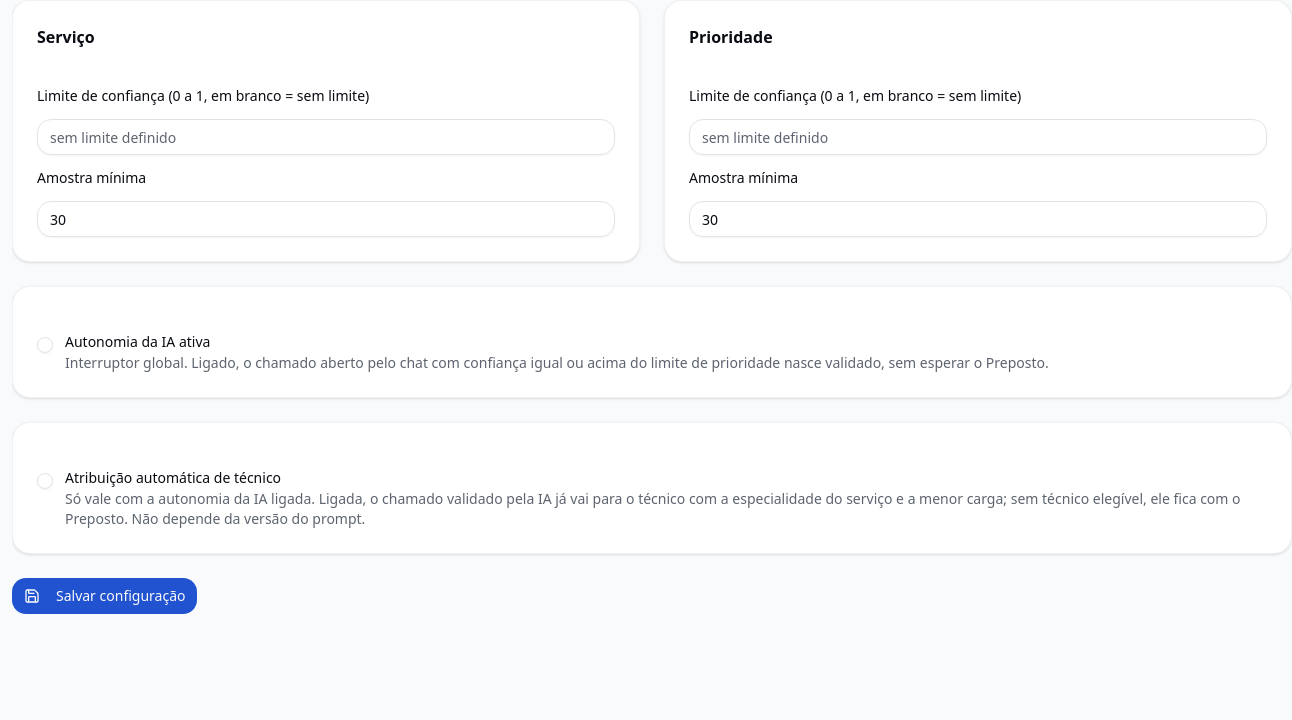
Test: IaConfiancaForm · validação › recusa amostra mínima 0, sem gravar
Replace the text in the 1st number field labelled "Amostra mínima" with "0": (326, 219) [37,201,615,237]
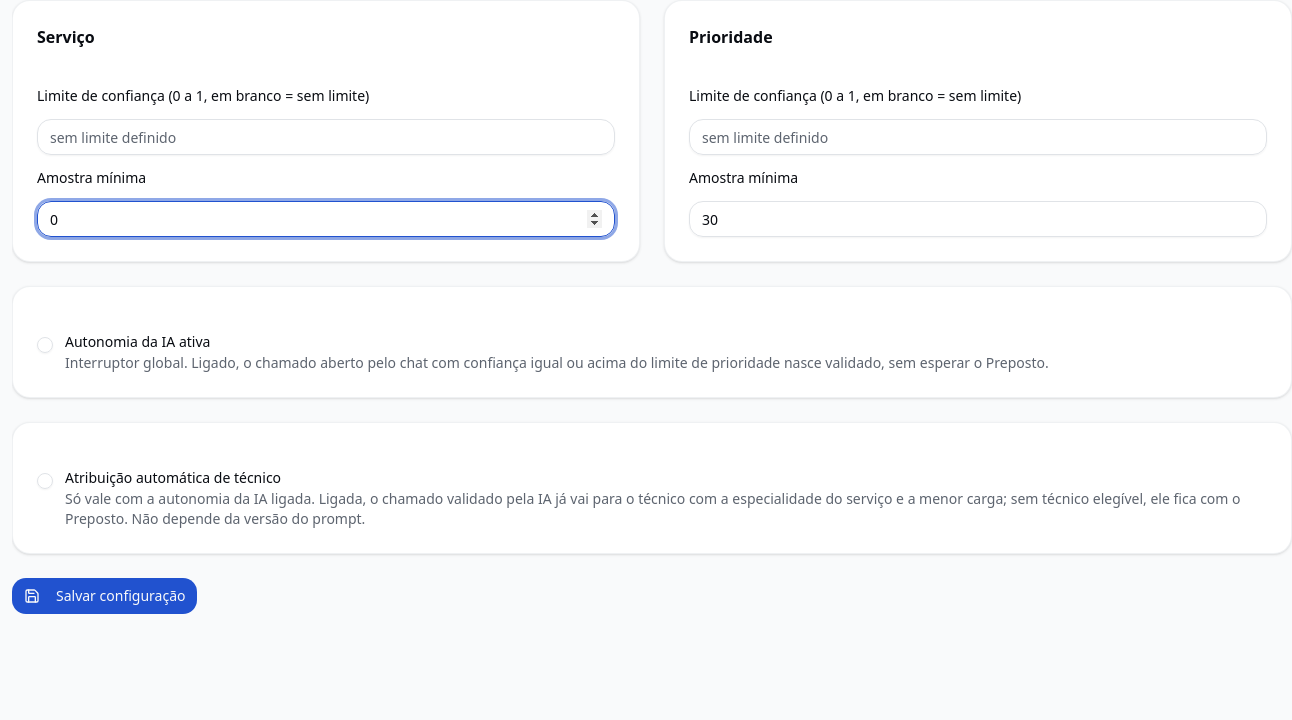
Click the button "Salvar configuração": (105, 596) [12,578,198,614]
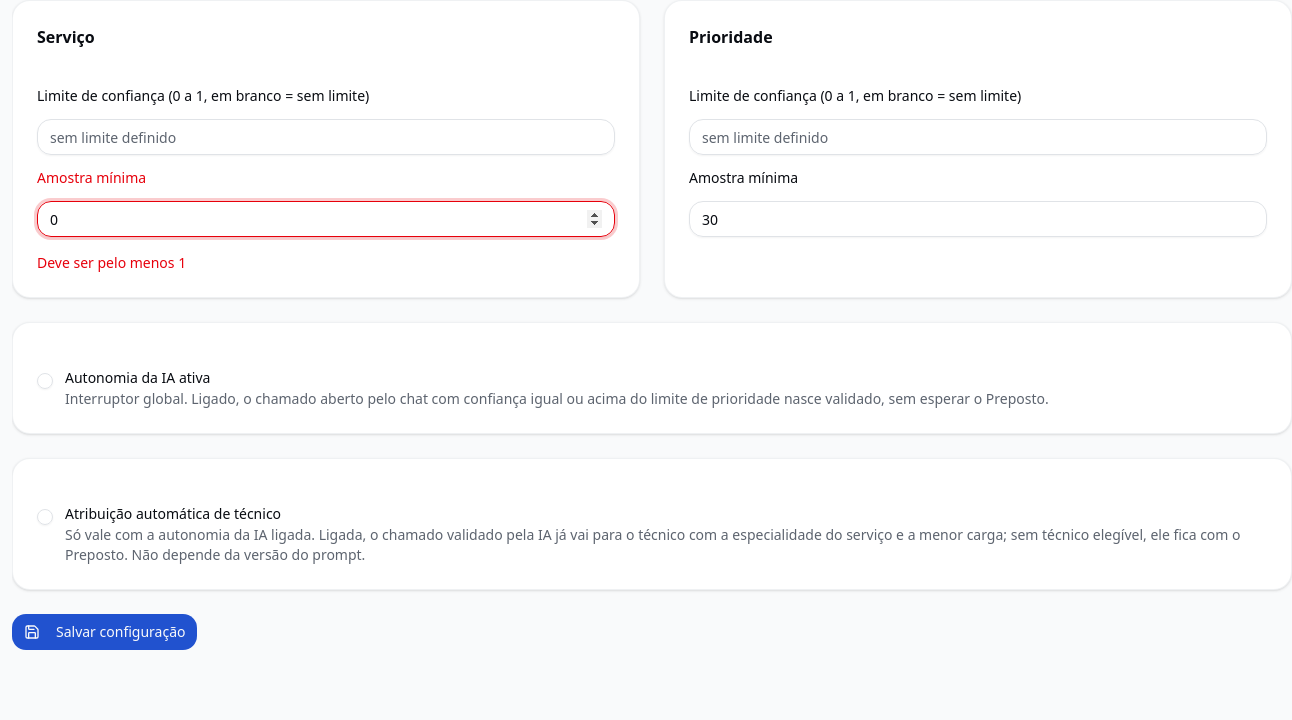
expect the text "Deve ser pelo menos 1" is shown: met, box [37,253,186,272]
